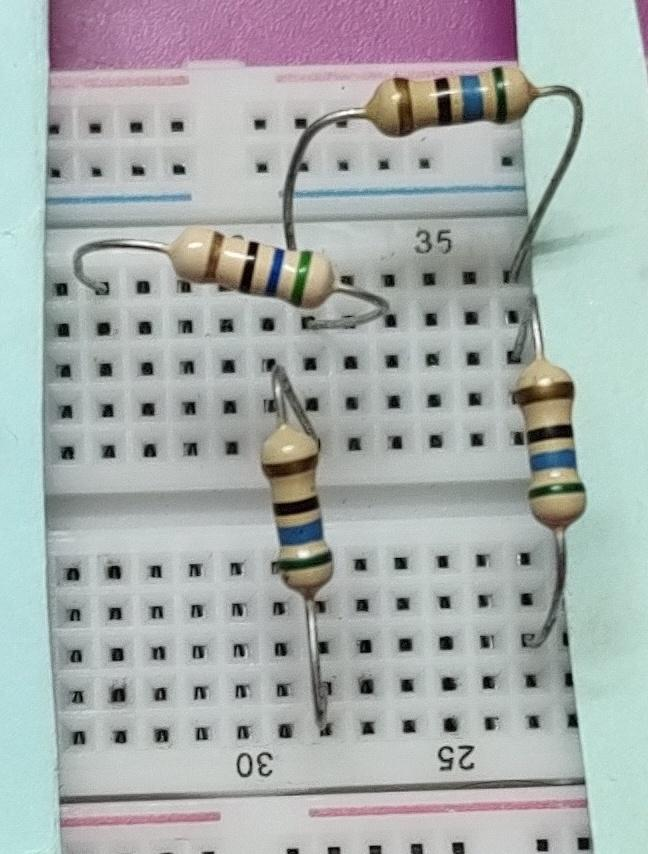resistor: (149, 204, 360, 327), (499, 344, 605, 544), (250, 415, 353, 612), (355, 54, 549, 144)
